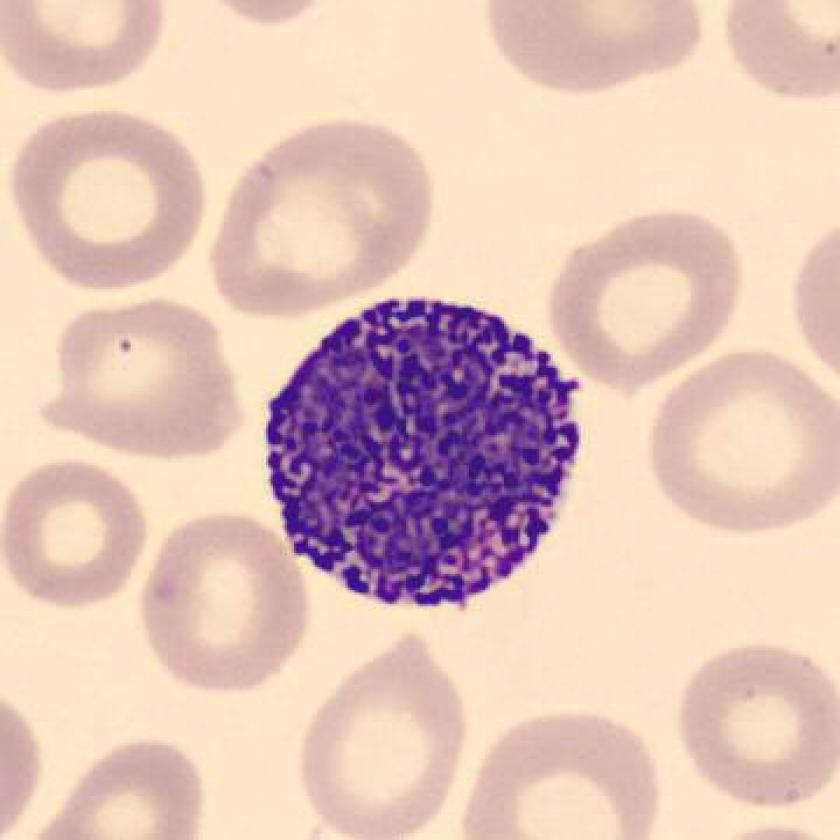basophil: (260, 279, 587, 619)
